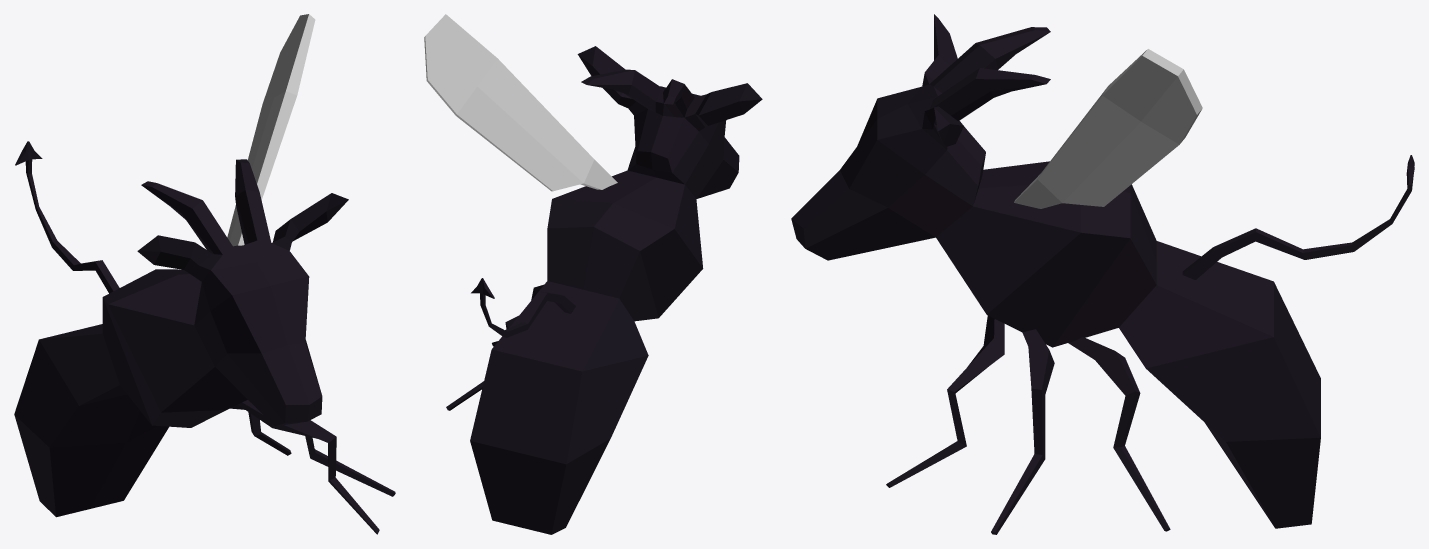
Rendered from flygoat.glb.
3 renders of one model, left to right at view 1: azimuth 30°, elevation 25°; view 2: azimuth 150°, elevation 25°; view 3: azimuth 270°, elevation 25°, orthographic. The views are drawn at different scales.
Parts seen in each view (by area): view 1: Body, Wing, FrontLeg, Tail, MiddleLeg, BackLeg; view 2: Body, Wing, Tail; view 3: Body, Wing, BackLeg, Tail, MiddleLeg, FrontLeg.
Boxes of the visible parts, left/top/right/bottom form: Body: left=14, top=159, right=348, bottom=517; Wing: left=227, top=14, right=315, bottom=246; FrontLeg: left=238, top=400, right=379, bottom=534; Tail: left=15, top=141, right=119, bottom=293; MiddleLeg: left=230, top=404, right=395, bottom=496; BackLeg: left=248, top=412, right=291, bottom=455; Body: left=470, top=46, right=762, bottom=534; Wing: left=424, top=14, right=617, bottom=191; Tail: left=471, top=278, right=575, bottom=337; Body: left=791, top=14, right=1320, bottom=528; Wing: left=1014, top=49, right=1202, bottom=208; BackLeg: left=1068, top=337, right=1170, bottom=531; Tail: left=1182, top=155, right=1414, bottom=279; MiddleLeg: left=991, top=329, right=1054, bottom=534; FrontLeg: left=886, top=315, right=1004, bottom=487.
Bounding box in the file's own units: 1.71 × 2.87 × 2.96.
Materials: 3 (2 with a texture image).
